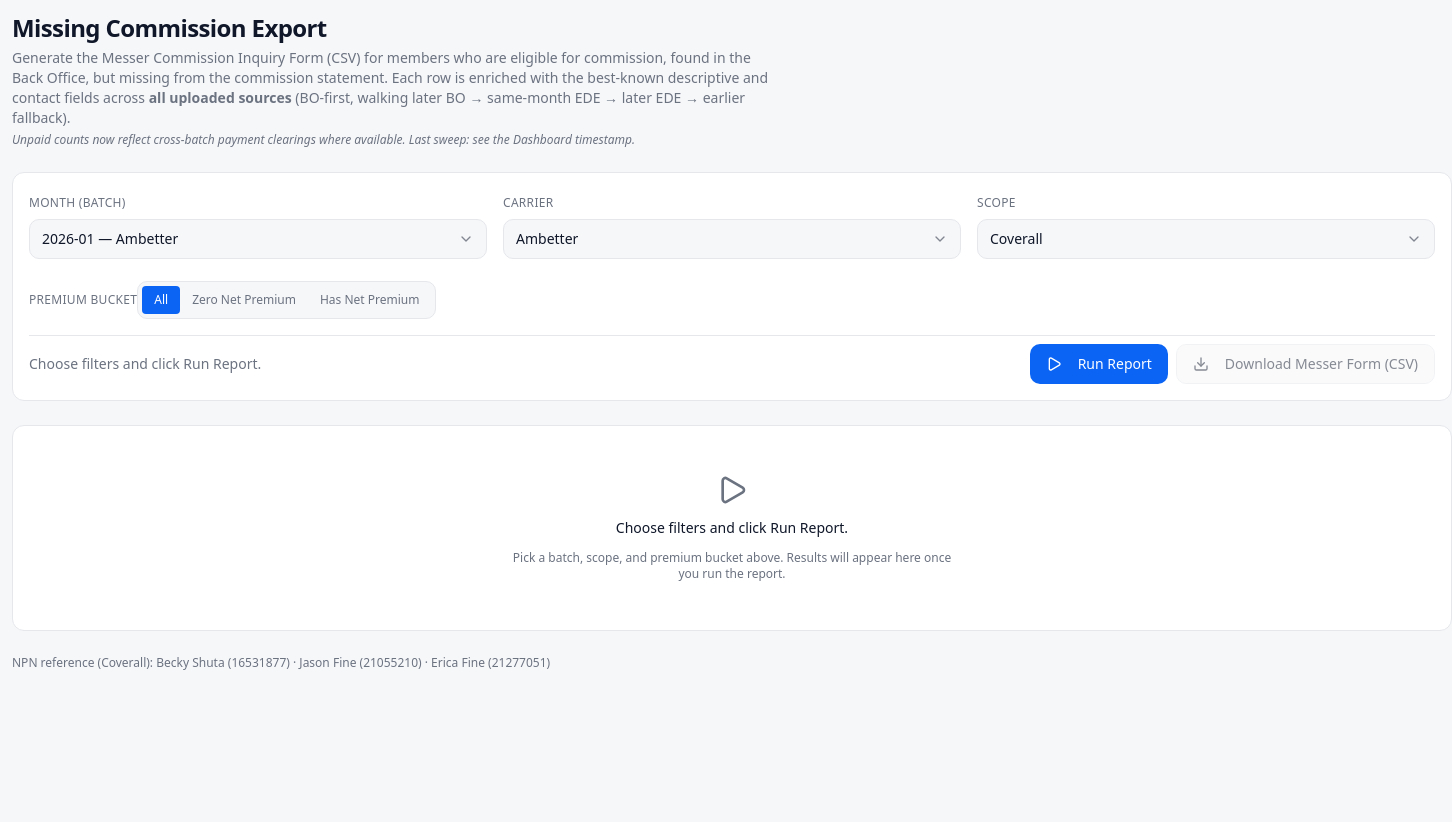
Test: MissingCommissionExportPage — #124 explicit states › error state: shows error UI on simulated failure, never blank
Expected: the element with test id "initial-state" is shown, x1=12 y1=425 x2=1451 y2=631
What coordinates should you click on to do the following:
click the button with test id "run-report"
I would click on:
 (1099, 364)
Its box is x1=1030 y1=344 x2=1168 y2=384.
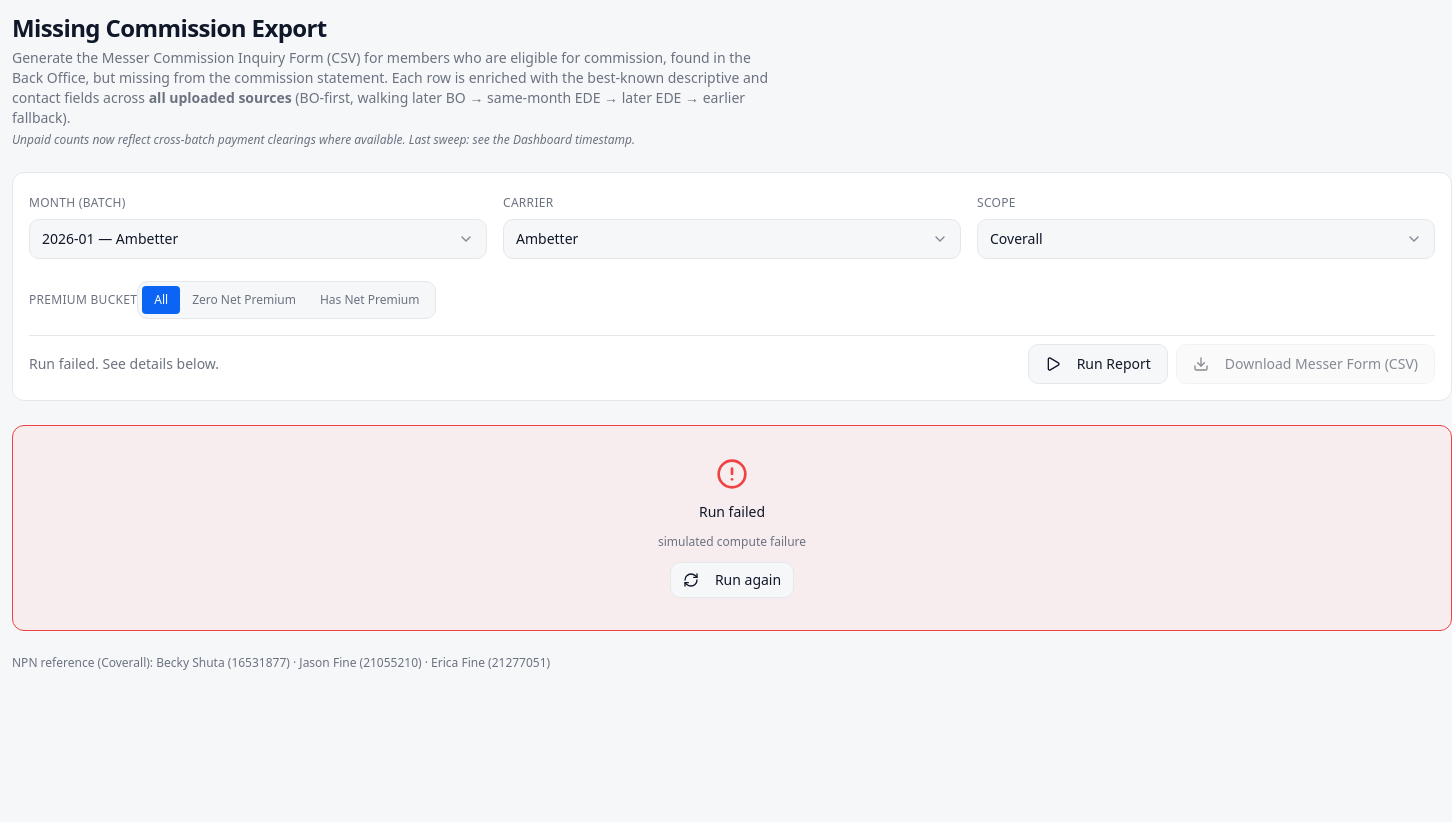
Result: the message "Run failed simulated compute failure Run again" is shown at x1=12 y1=425 x2=1451 y2=631
Result: the message with test id "error-state" shows "Run failed" at x1=699 y1=502 x2=765 y2=521
Result: the message with test id "error-state" shows "simulated compute failure" at x1=658 y1=533 x2=806 y2=550
